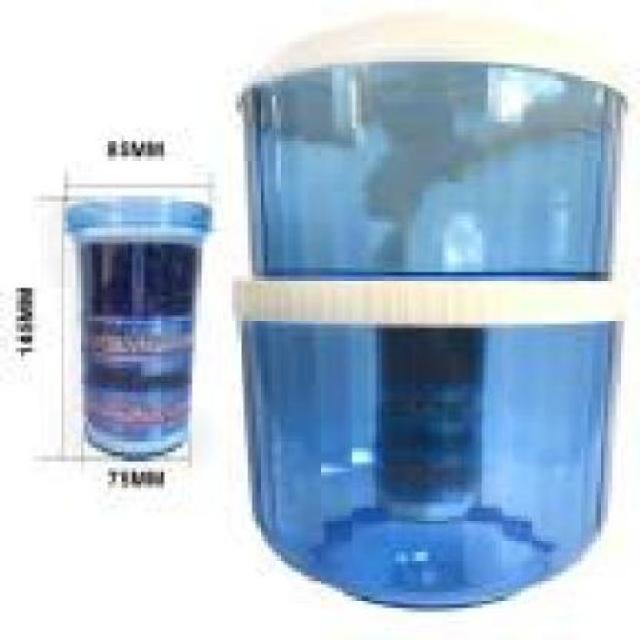coolerbottle: (224, 11, 632, 621)
